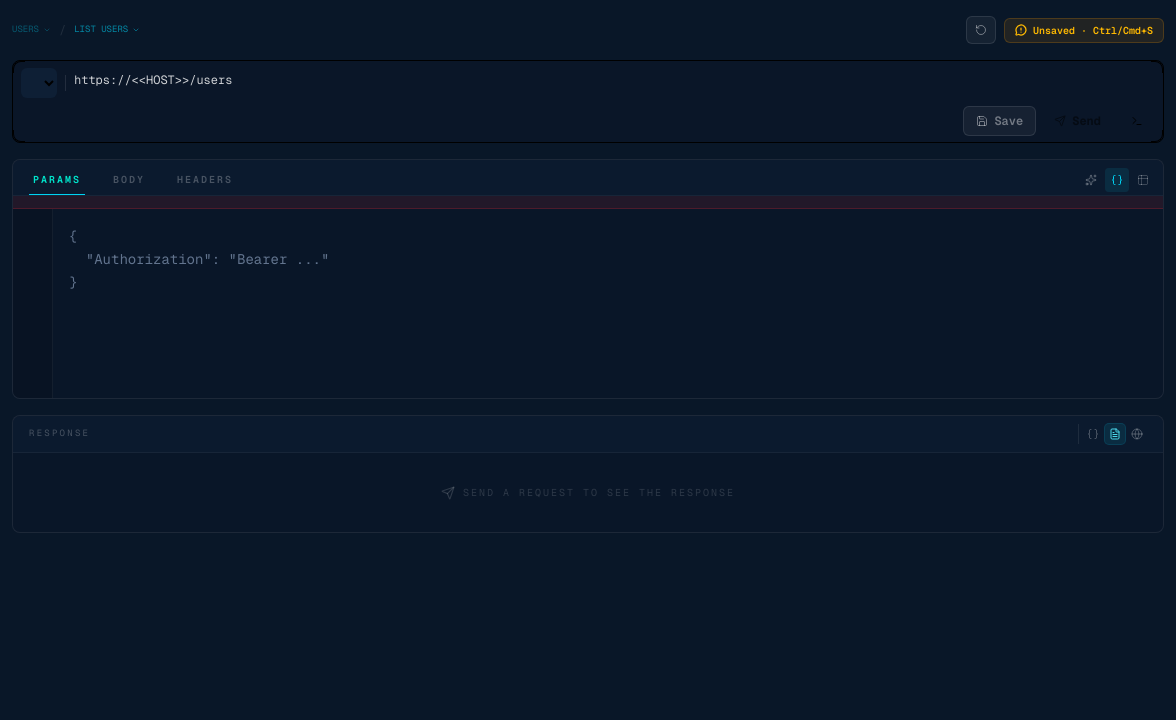
Test: Params / Body / Headers editor › editing Params rewrites the URL query string, encoded
This screenshot has width=1176, height=720.
Check: the text box named "Request URL" is not empty, box [74, 67, 1155, 91]
Clear the text box with placeholder "{ \"Authorization\": \"Bearer ...\" }" at (608, 304), box [53, 209, 1163, 398]
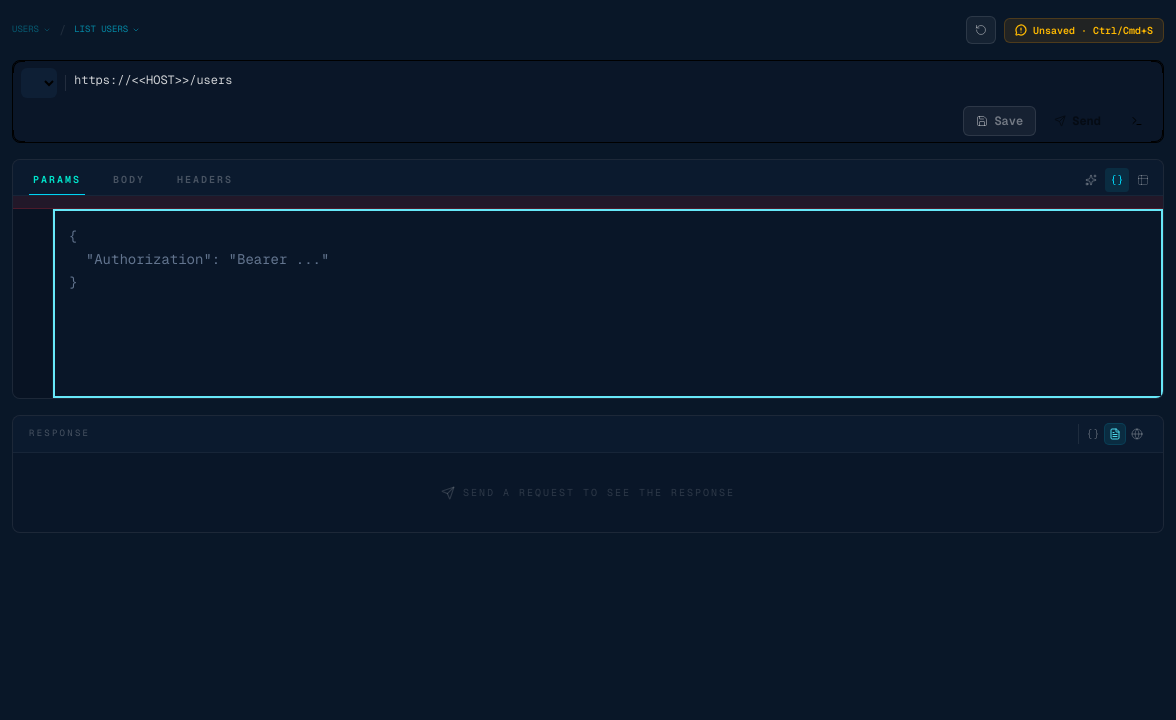
Type keys "{\"q\": \"a b\", \"page\": \"2\"}"
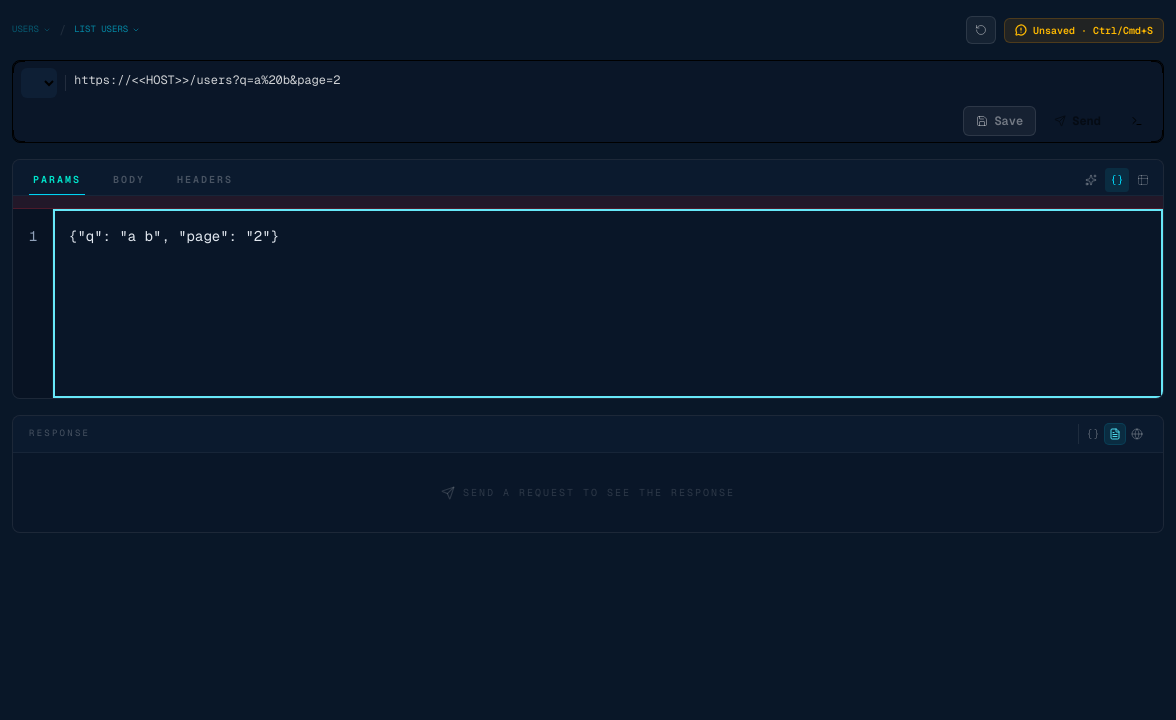
Check: the text box named "Request URL" holds "https://<<HOST>>/users?q=a%20b&page=2", box [74, 67, 1155, 91]
Clear the text box named "params JSON" at (608, 304), box [53, 209, 1163, 398]
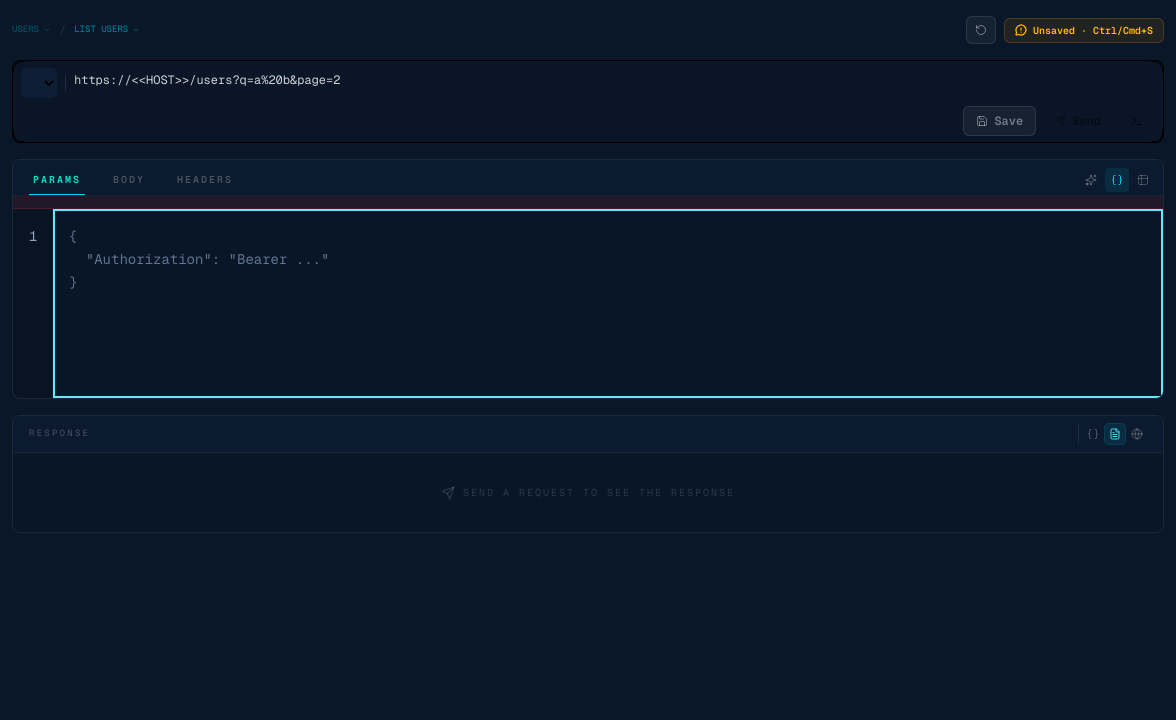
Type keys "{}"
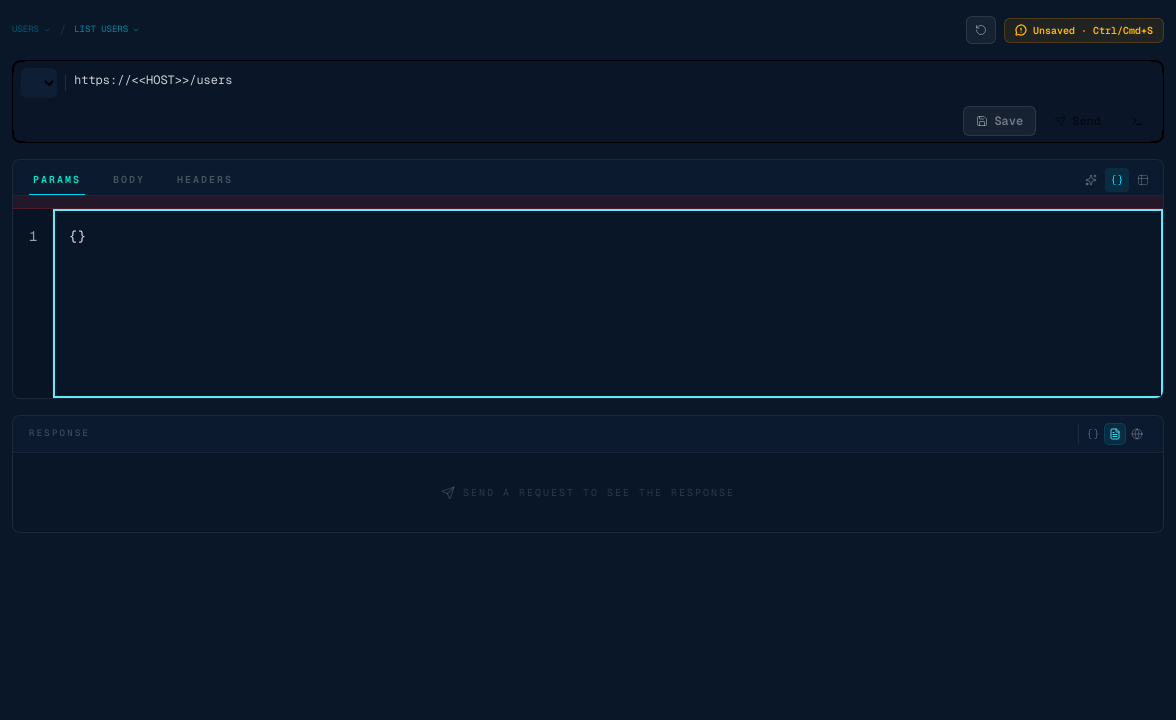
Check: the text box named "Request URL" holds "https://<<HOST>>/users", box [74, 67, 1155, 91]
